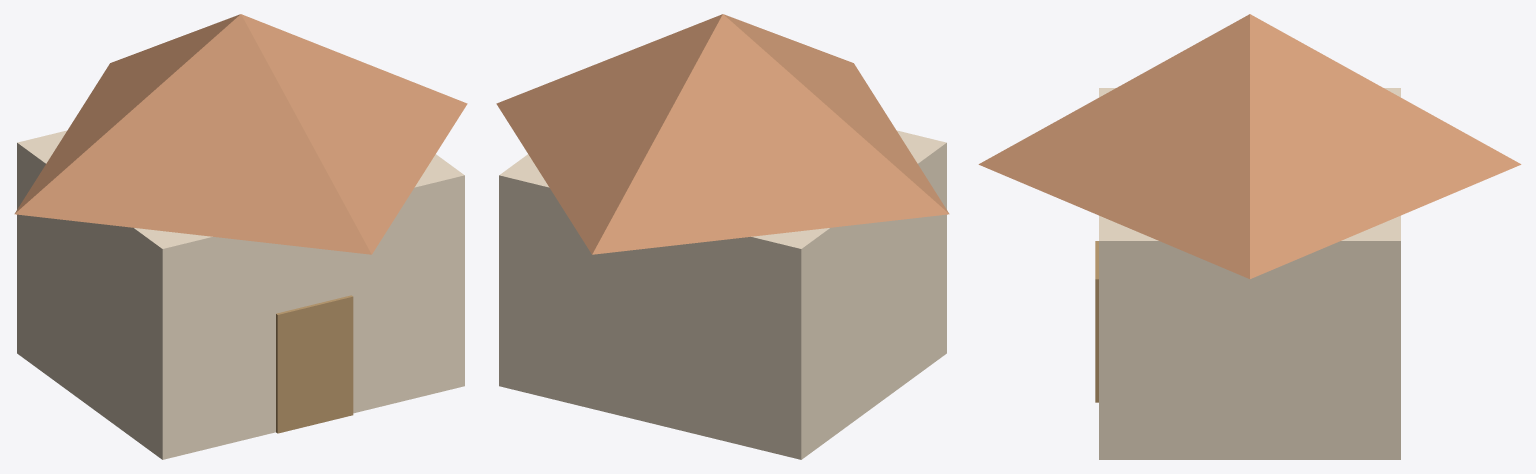
File: rumah_mungil.glb
3 views of the same model, side by side, from view 1: azimuth 30°, elevation 25°; view 2: azimuth 150°, elevation 25°; view 3: azimuth 270°, elevation 25° (orthographic). The views are drawn at different scales.
Bounding box in the file's own units: 3.6 × 2.7 × 3.6.
